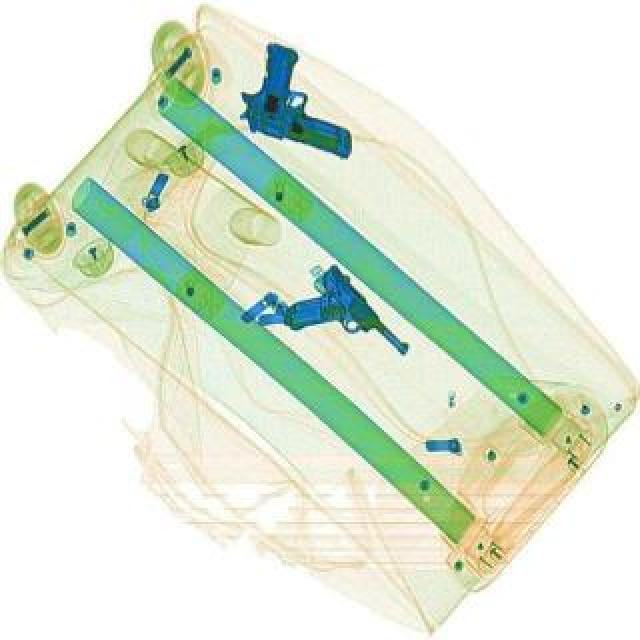gun: (230, 34, 382, 160), (274, 262, 418, 394)
